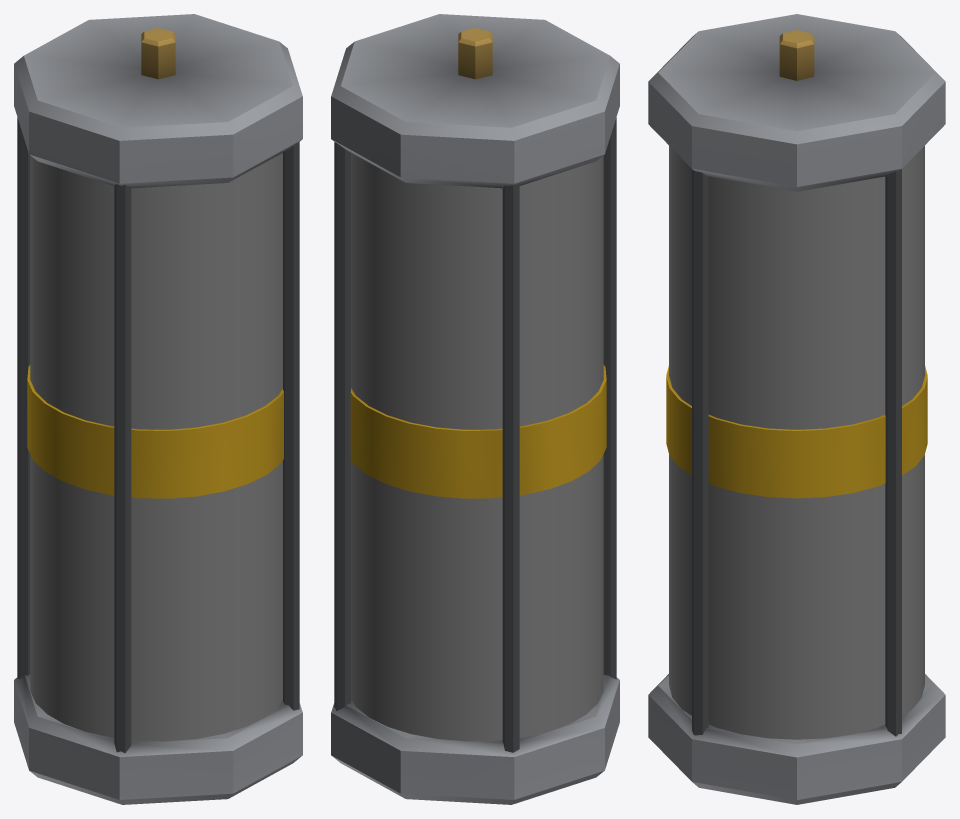
Rendered from acumulador.glb.
3 renders of one model, left to right at view 1: azimuth 30°, elevation 25°; view 2: azimuth 150°, elevation 25°; view 3: azimuth 270°, elevation 25°, orthographic.
Visible parts, largest first — view 1: cuerpo; view 2: cuerpo; view 3: cuerpo.
Boxes of the visible parts, x1=… form: cuerpo: x1=14, y1=14, x2=302, y2=804; cuerpo: x1=331, y1=14, x2=619, y2=804; cuerpo: x1=648, y1=14, x2=945, y2=804.
Size of the model in its own units: 0.24 by 0.632 by 0.24.
